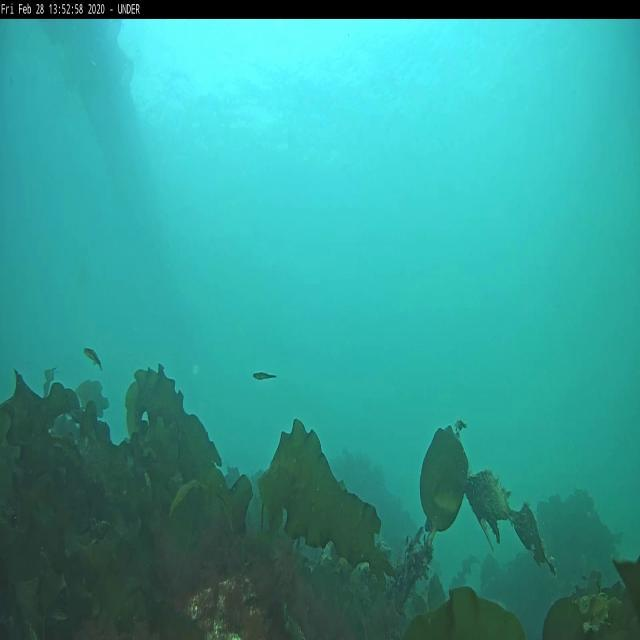fish: (84, 346, 102, 368), (253, 369, 276, 378)
